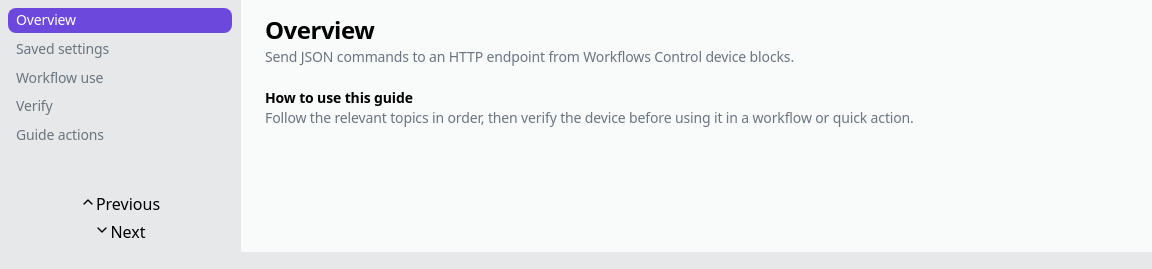
Test case: StandardDeviceSetupGuide › uses consistent workflow, verification, and saved-settings topics
Expected: the button "Overview" is shown, [8,8,232,33]
Expected: the button "Saved settings" is shown, [8,37,232,62]
Click the button "Verify" at (120, 107), box [8,94,232,119]
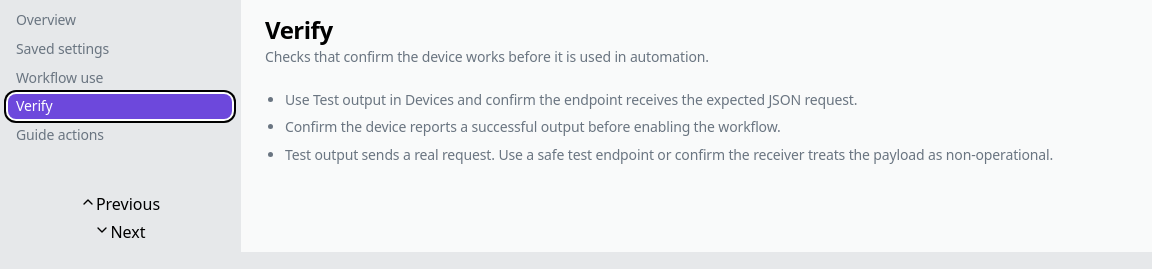
Now the list item "Use Test output in Devices and confirm the endpoint receives the expected JSON request." is shown, box [285,90,857,109]
